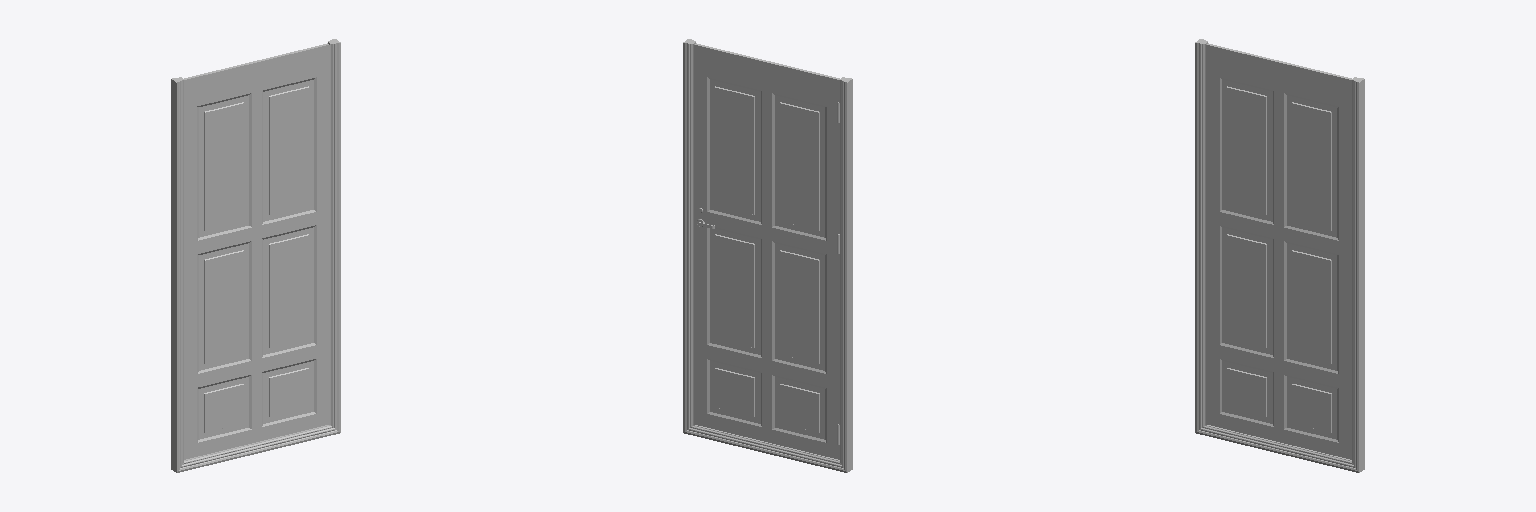
File: tunnel.obj
3 renders of one model, left to right at view 1: azimuth 30°, elevation 25°; view 2: azimuth 150°, elevation 25°; view 3: azimuth 330°, elevation 25°, orthographic.
Visible parts, largest first — view 1: tunnel; view 2: tunnel; view 3: tunnel.
Boxes of the visible parts, x1,y1,x2,y2 form: tunnel: [171, 39, 340, 472]; tunnel: [683, 39, 852, 472]; tunnel: [1195, 39, 1364, 472].
Bounding box in the file's own units: 90.95 × 207 × 5.51.